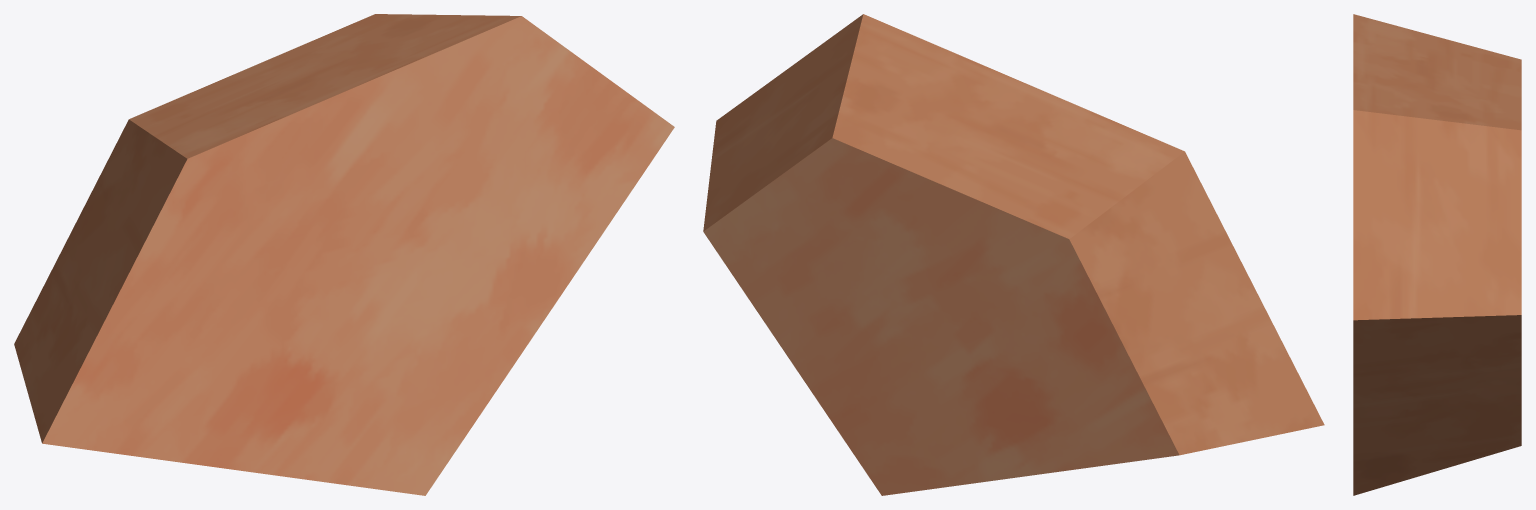
File: wall2_plain_s03.fbx
3 views of the same model, side by side, from view 1: azimuth 30°, elevation 25°; view 2: azimuth 150°, elevation 25°; view 3: azimuth 270°, elevation 25° (orthographic). The views are drawn at different scales.
Visible parts, largest first — view 1: wall2_plain_s03; view 2: wall2_plain_s03; view 3: wall2_plain_s03.
Part boxes in pixels (x1,y1,x2,y2): wall2_plain_s03: (14, 14, 674, 495); wall2_plain_s03: (703, 14, 1324, 495); wall2_plain_s03: (1353, 14, 1521, 495).
Bounding box in the file's own units: 4.08 × 2.82 × 1.
